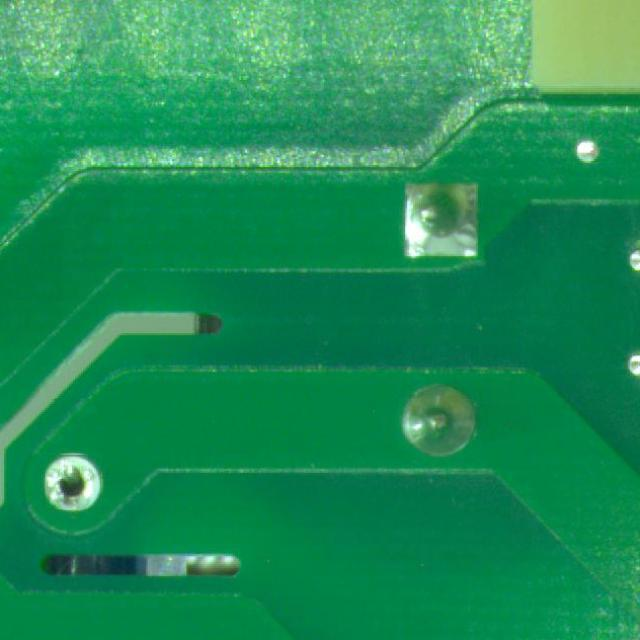low_solder: (45, 454, 101, 510)
